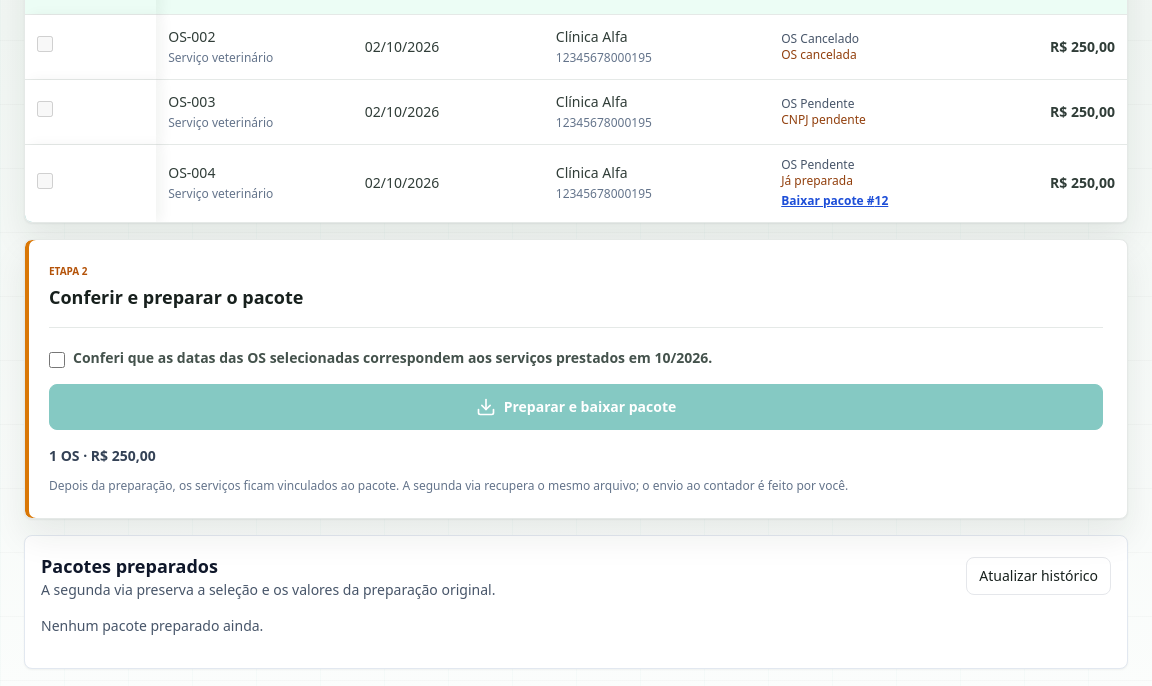
it: FechamentoCompetenciaPage › usa competência obrigatória e impede canceladas, pendentes de cadastro e já preparadas na seleção
(page scrolled)
Expected: the checkbox named "Selecionar OS OS-002" is disabled, [37,36,53,52]
Expected: the checkbox named "Selecionar OS OS-002" is not checked, [37,36,53,52]
What coordinates should you click on to do the following:
click the checkbox labelled "Conferi que as datas"
I would click on:
 (57, 360)
Its box is [49,352,65,368].
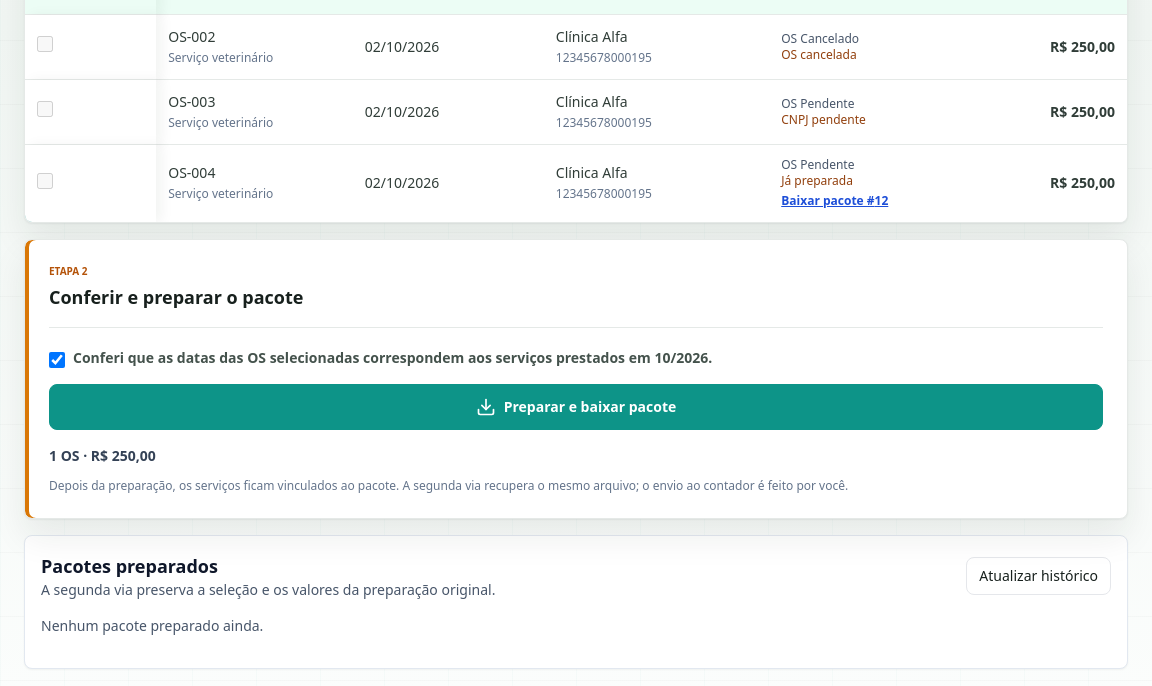
What coordinates should you click on to do the following:
click the button "Preparar e baixar pacote"
I would click on:
 (576, 406)
Its box is [49,384,1103,430].
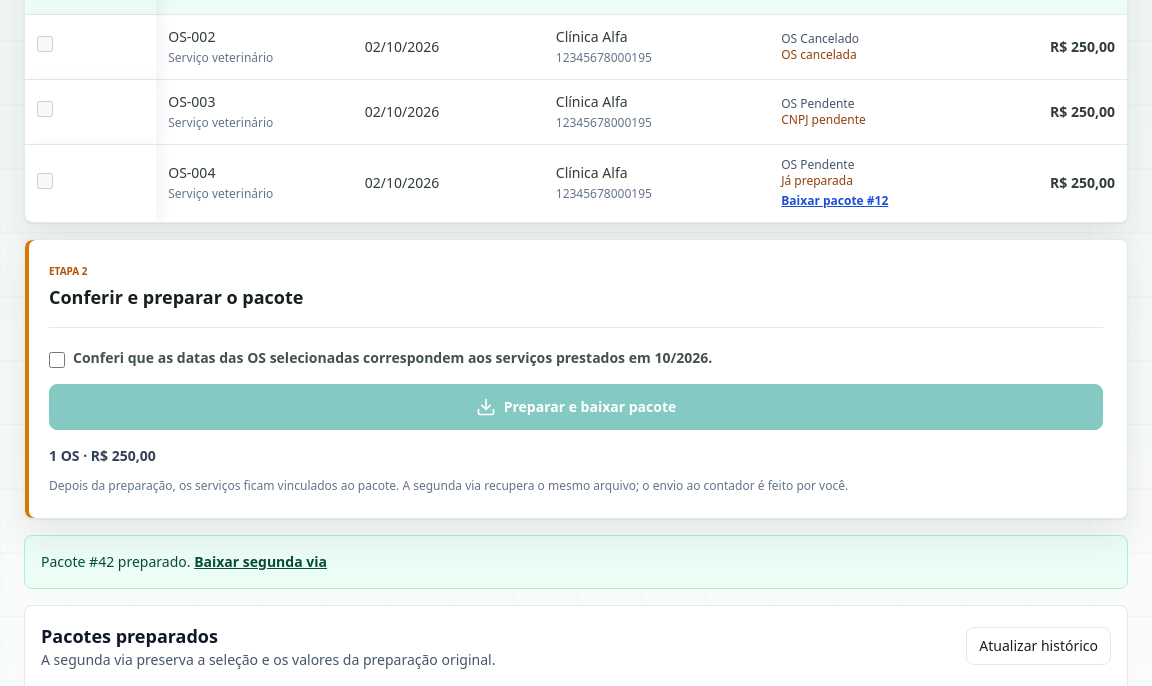
Now the text "Pacote #42 preparado. Baixar segunda via" is shown, box [24,534,1128,588]
